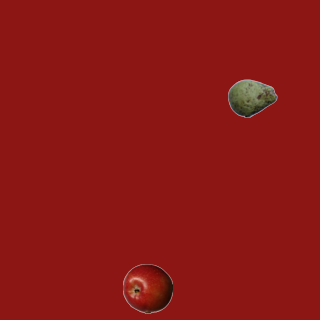Apple Braeburn: (122, 263, 172, 313)
Pear Stone: (227, 73, 277, 123)
